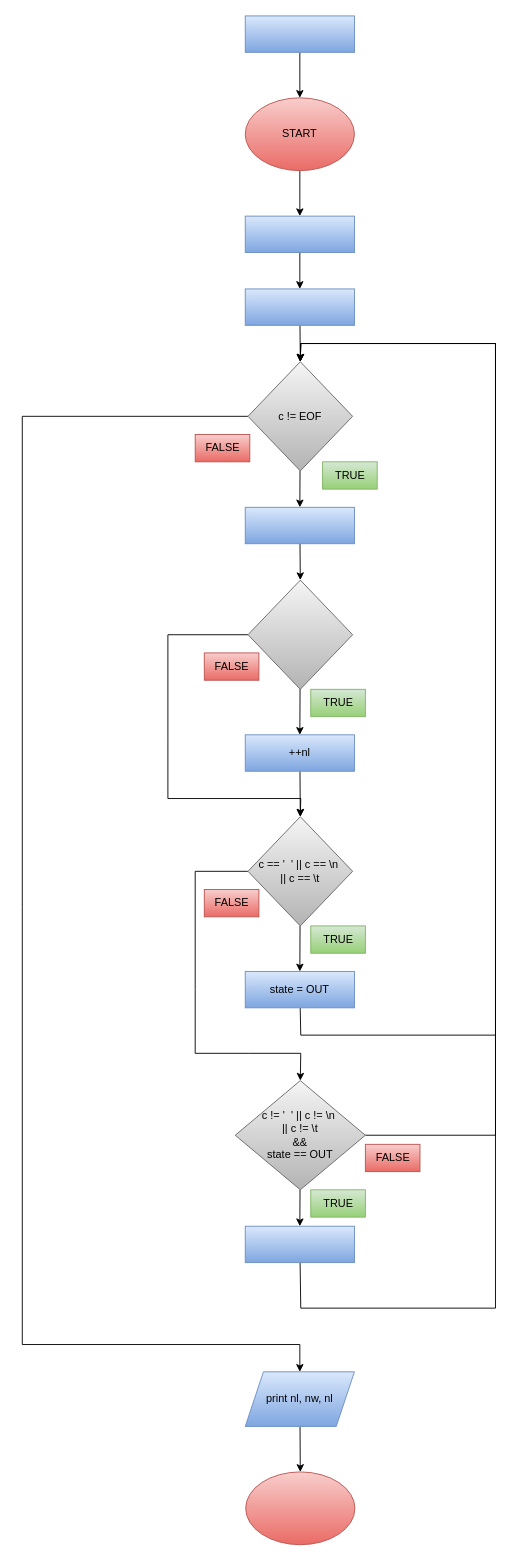
The diagram is 519 pixels wide and 1561 high, and some of its shapes have lost their labels. The centre of each missing label's shape, as x and y in pixels:
"++nc" goes at (299,525).
"c == \n" goes at (300,634).
"define IN 1 define OUT 0" goes at (299,33).
"END" goes at (300,1508).
"int c, nl, nw, nc, state state = OUT" goes at (299,234).
"nl = nw = nc = 0 c = getchar()" goes at (299,306).
"state = IN ++nw" goes at (299,1244).
